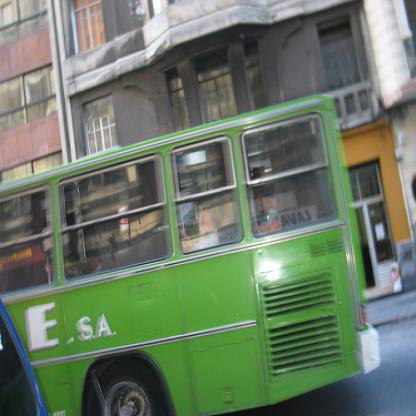bus: (0, 92, 382, 415)
